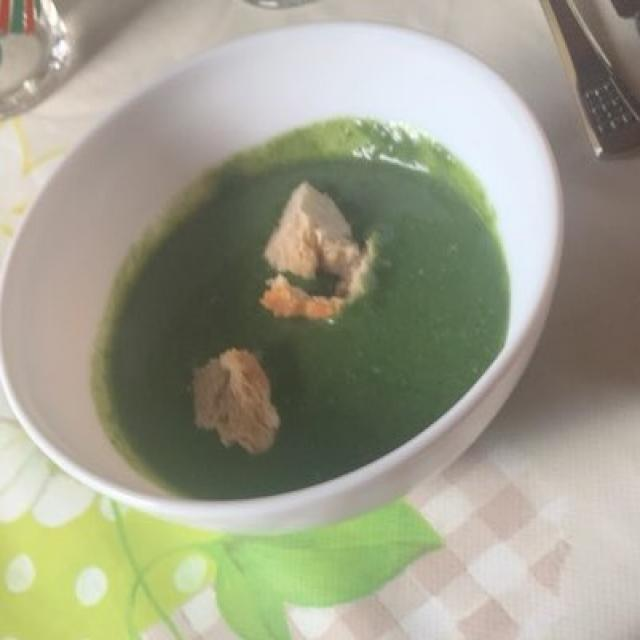croutons: (196, 177, 381, 452)
soup: (92, 122, 497, 489)
